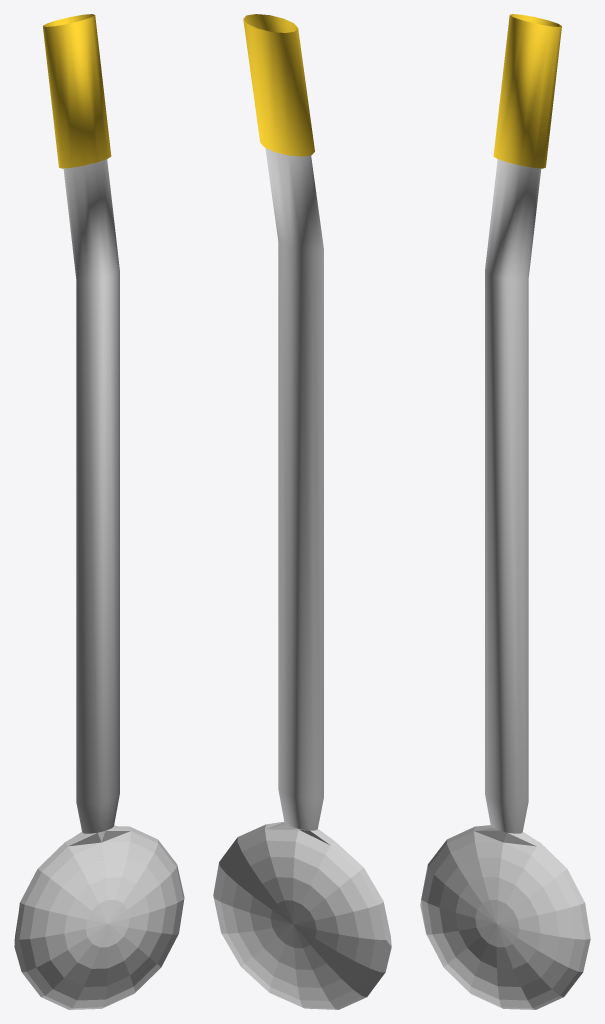
Rendered from bomba.obj.
The picture shows the model from 3 angles, left to right: view 1: azimuth 30°, elevation 25°; view 2: azimuth 150°, elevation 25°; view 3: azimuth 330°, elevation 25°; orthographic projection. The views are drawn at different scales.
Parts seen in each view (by area): view 1: Tube_Bomba; view 2: Tube_Bomba; view 3: Tube_Bomba.
Part boxes in pixels (x1,y1,x2,y2): Tube_Bomba: (14, 14, 184, 1009); Tube_Bomba: (213, 14, 391, 1009); Tube_Bomba: (420, 14, 590, 1009).
Bounding box in the file's own units: 0.7336 × 3.98 × 0.3349.
